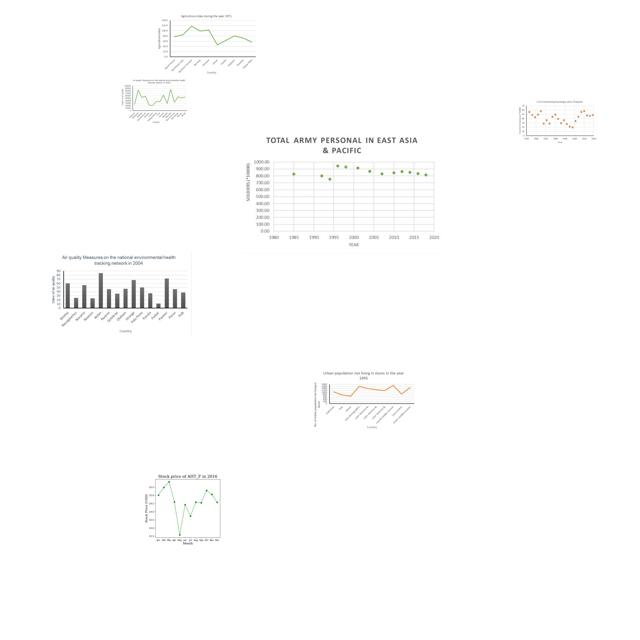Graph: (241, 135, 441, 254), (49, 252, 192, 336), (136, 470, 237, 546), (155, 13, 258, 74), (313, 370, 416, 430), (517, 99, 597, 145), (120, 78, 188, 125)
